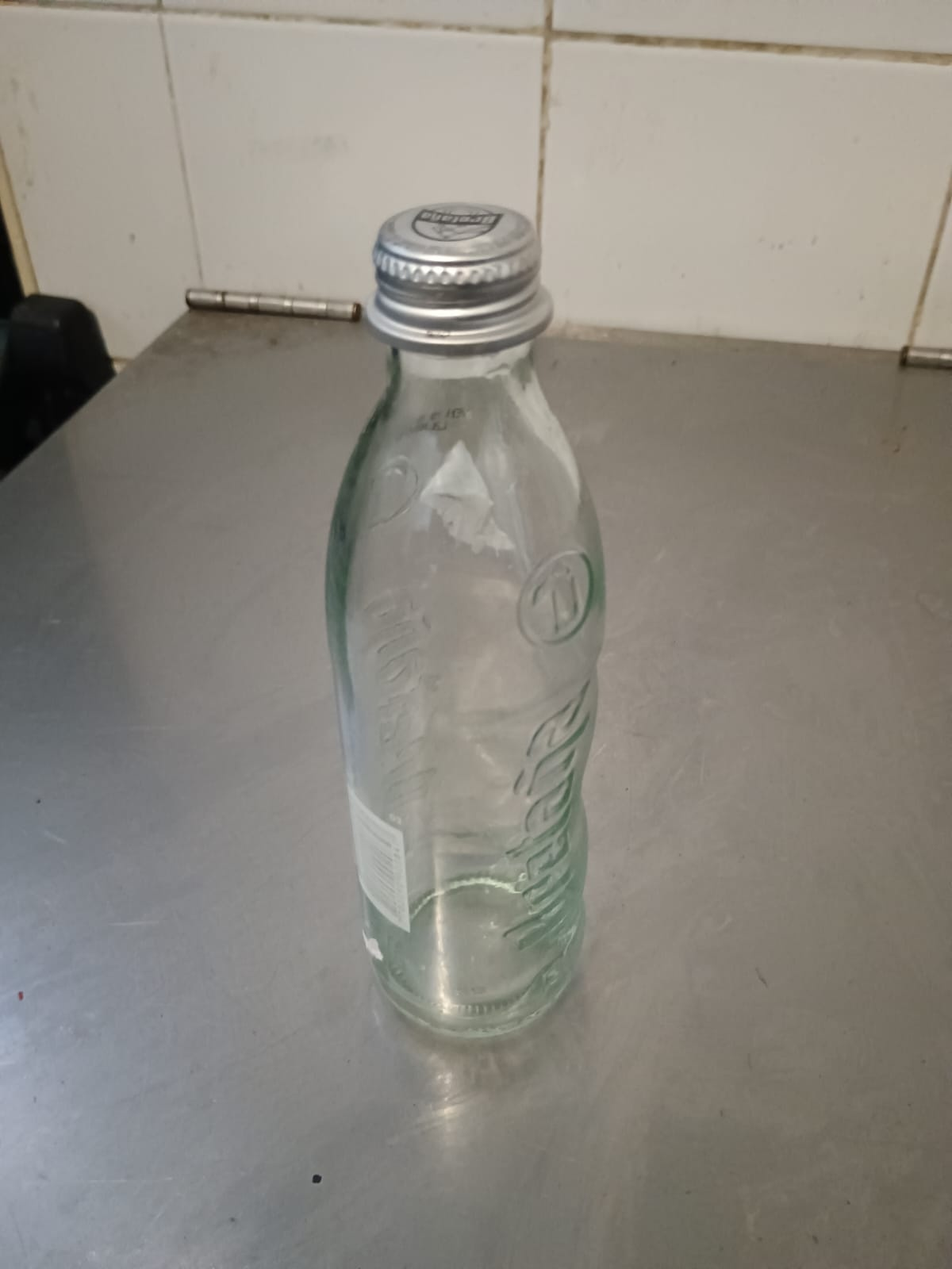Metal: (368, 198, 554, 333)
Vidrio: (324, 338, 609, 1041)
